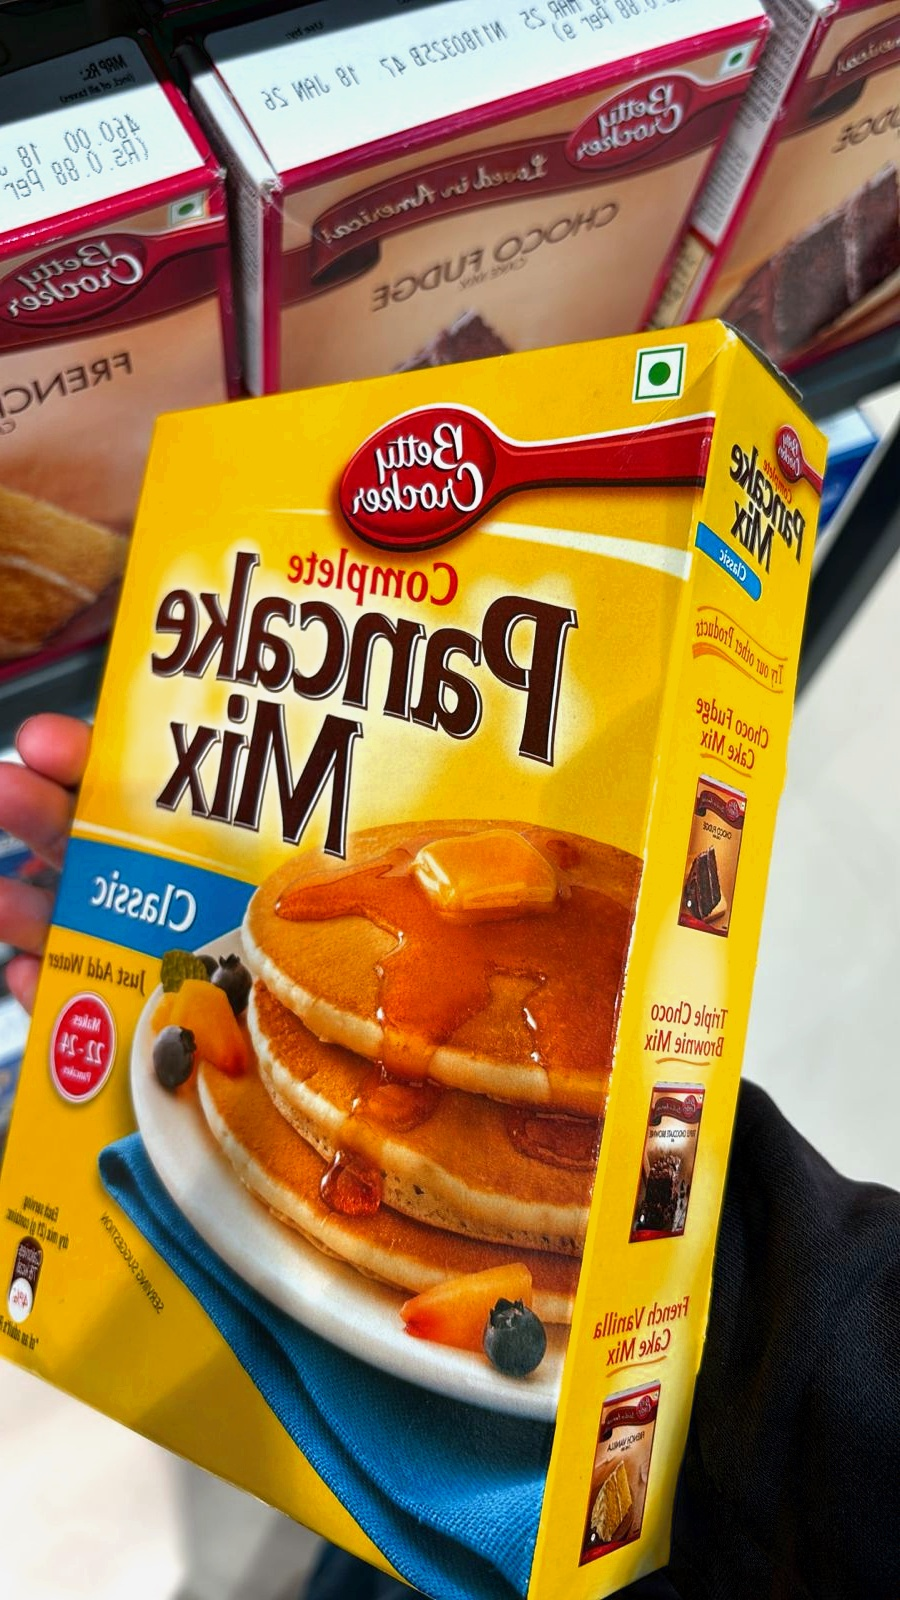Betty Crocker Pancake Mix: (16, 348, 834, 1590)
